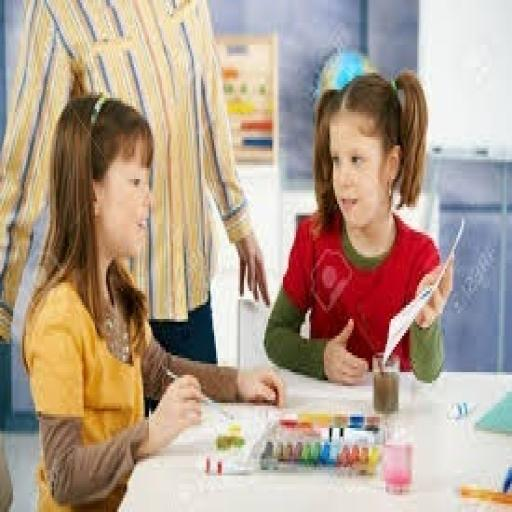sitting: (18, 59, 284, 509), (262, 48, 454, 386)
